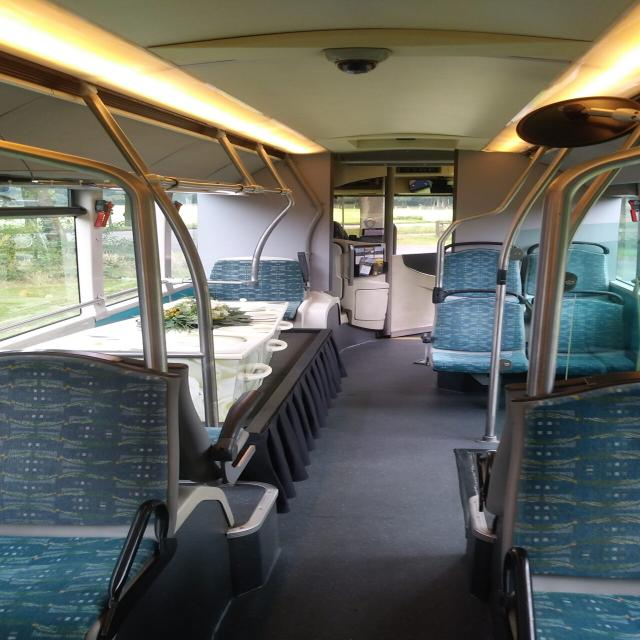empty-seat-frontal: (434, 288, 536, 374)
